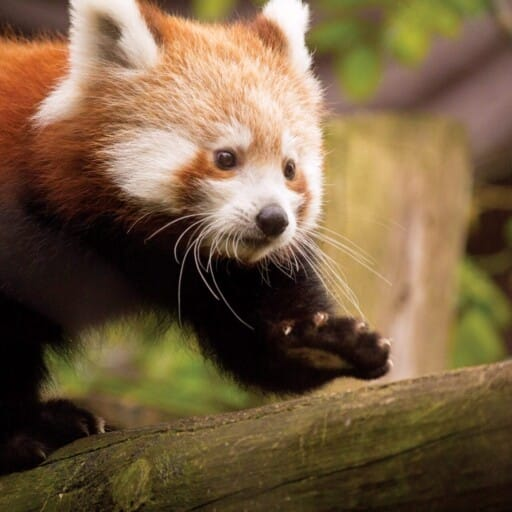Red panda: (37, 0, 335, 263)
